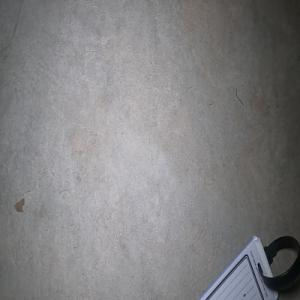LuggageTag: (196, 234, 300, 300)
